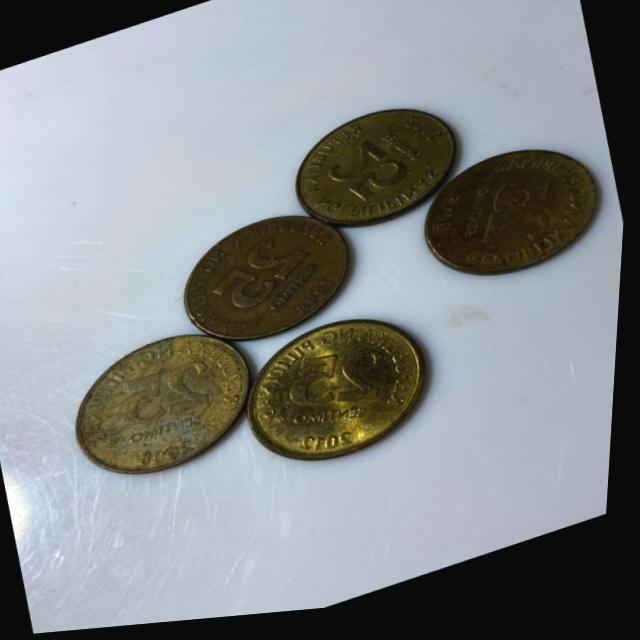25Cent_Old_Front: (197, 233, 312, 327), (285, 337, 395, 428), (316, 134, 418, 228), (110, 357, 219, 444), (472, 173, 574, 261)
